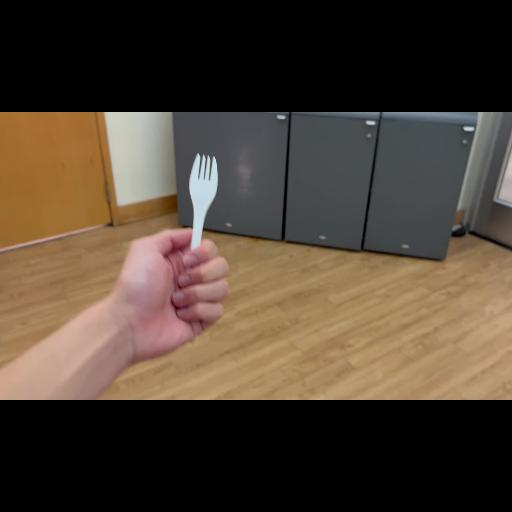utensil: (182, 152, 222, 266)
